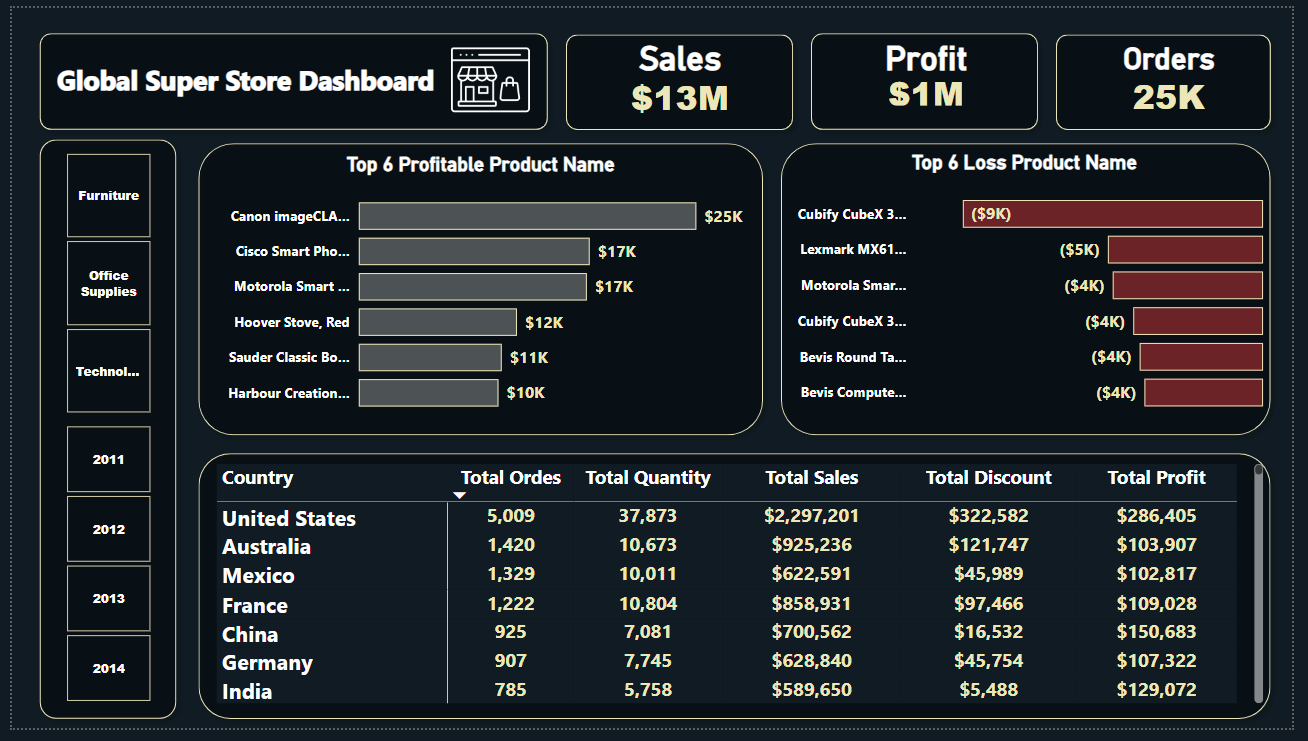

The page's visual inventory and layout, read from the dashboard file:
{"tool":"powerbi","page":{"name":"Profit & loss, Country Details","canvas":[1280,720],"ordinal":2},"visuals":[{"type":"shape","box":[19.3,15.7,526,114.6],"z":0},{"type":"textbox","box":[39.8,48.3,395.7,54.3],"z":1000},{"type":"image","box":[421,25.3,114.6,94.1],"z":2000},{"type":"shape","box":[545.3,16.9,244.9,113.4],"z":3000},{"type":"card","title":"Sales","fields":{"Values":["All Measures.Total Sales"]},"box":[567,31.4,201.5,79.6],"z":4000},{"type":"shape","box":[790.2,15.7,244.9,114.6],"z":5000},{"type":"shape","box":[1035.1,16.9,232.8,113.4],"z":6000},{"type":"card","title":"Profit","fields":{"Values":["All Measures.Total Profit"]},"box":[813.1,31.4,201.5,71.2],"z":7000},{"type":"card","title":"Orders","fields":{"Values":["All Measures.Total Ordes"]},"box":[1056.8,32.6,201.5,78.4],"z":8000},{"type":"shape","box":[19.3,123.1,154.4,597.2],"z":9000},{"type":"slicer","fields":{"Values":["Global_Superstorecsv.Category"]},"box":[29,138.7,133.9,272.7],"z":10000},{"type":"shape","box":[177.5,126.2,582.5,310],"z":11000},{"type":"barChart","title":"Top 6 Profitable Product Name","fields":{"Y":["All Measures.Total Profit"],"Category":["Global_Superstorecsv.Product Name"]},"box":[200,145,537.5,273.8],"z":12000},{"type":"slicer","fields":{"Values":["Global_Superstorecsv.Order Date.Variation.Date Hierarchy.Year"]},"box":[29,411.4,133.9,288.3],"z":13000},{"type":"shape","box":[760,126.2,507.5,310],"z":14000},{"type":"barChart","title":"Top 6 Loss Product Name","fields":{"Y":["All Measures.Total Profit"],"Category":["Global_Superstorecsv.Product Name"]},"box":[768.8,142.5,487.5,276.2],"z":15000},{"type":"shape","box":[177.5,436.2,1090,283.8],"z":16000},{"type":"pivotTable","fields":{"Values":["All Measures.Total Ordes","All Measures.Total Quantity","All Measures.Total Sales","All Measures.Total Discount","All Measures.Total Profit"],"Rows":["Global_Superstorecsv.Country"]},"box":[200,451.2,1056.2,248.8],"z":17000}]}

Visuals, with their boxes in screenshot pixels (x1, y1, x2, y2), scaled from the page's 1280x720 canvas onto the 1308x741 screenshot:
shape: (x1=20, y1=16, x2=557, y2=134)
textbox: (x1=41, y1=50, x2=445, y2=106)
image: (x1=430, y1=26, x2=547, y2=123)
shape: (x1=557, y1=17, x2=807, y2=134)
"Sales" card: (x1=579, y1=32, x2=785, y2=114)
shape: (x1=807, y1=16, x2=1058, y2=134)
shape: (x1=1058, y1=17, x2=1296, y2=134)
"Profit" card: (x1=831, y1=32, x2=1037, y2=106)
"Orders" card: (x1=1080, y1=34, x2=1286, y2=114)
shape: (x1=20, y1=127, x2=177, y2=740)
slicer - Global_Superstorecsv.Category: (x1=30, y1=143, x2=166, y2=423)
shape: (x1=181, y1=130, x2=777, y2=449)
"Top 6 Profitable Product Name" barChart: (x1=204, y1=149, x2=754, y2=431)
slicer - Global_Superstorecsv.Order Date.Variation.Date Hierarchy.Year: (x1=30, y1=423, x2=166, y2=720)
shape: (x1=777, y1=130, x2=1295, y2=449)
"Top 6 Loss Product Name" barChart: (x1=786, y1=147, x2=1284, y2=431)
shape: (x1=181, y1=449, x2=1295, y2=740)
pivotTable - All Measures.Total Ordes x All Measures.Total Quantity: (x1=204, y1=464, x2=1284, y2=720)
